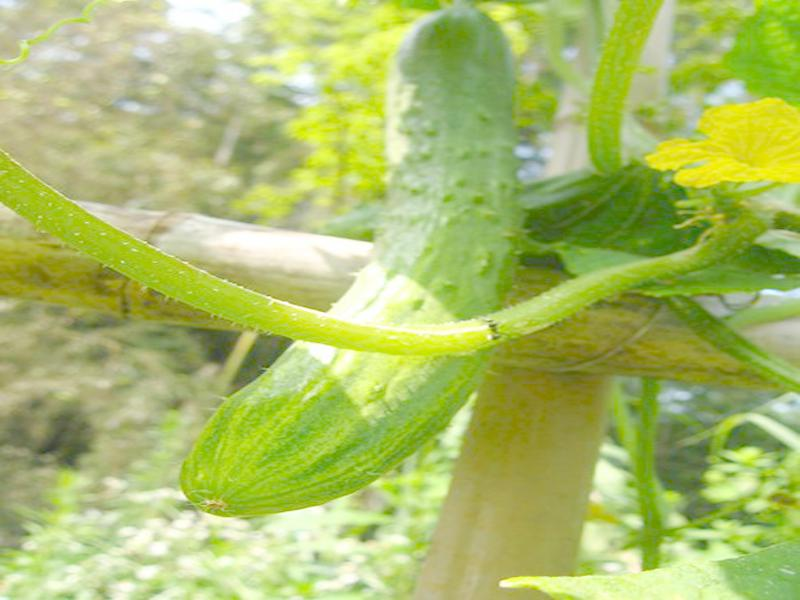Cucumber: (183, 4, 518, 517)
